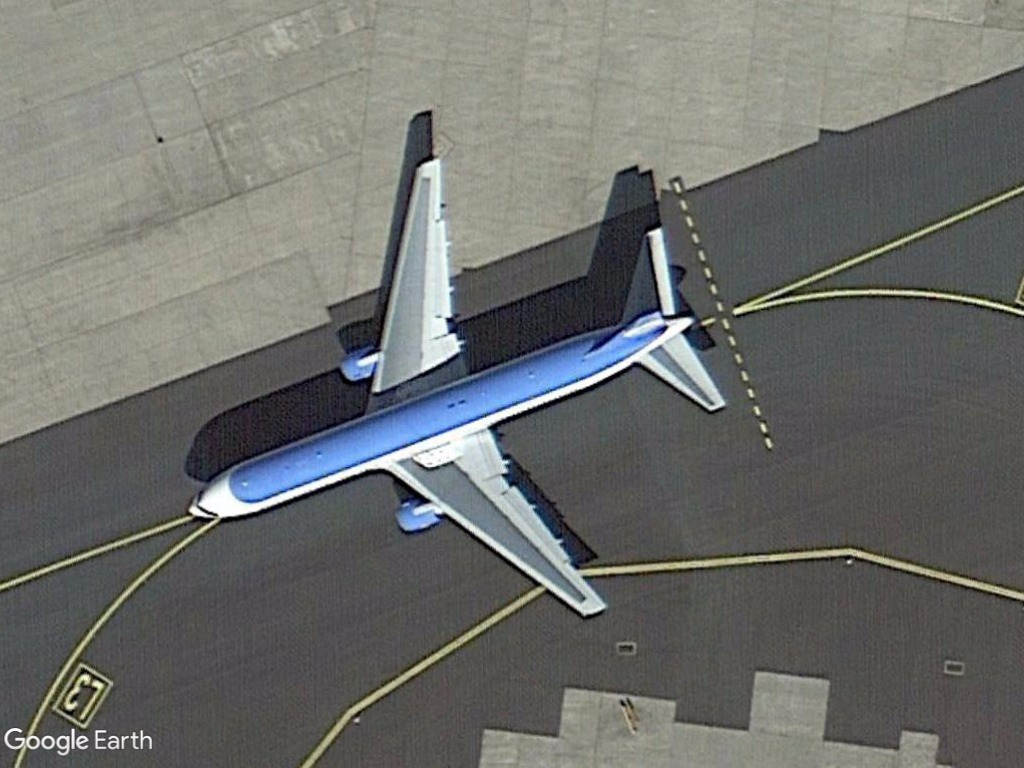airliner: (174, 140, 758, 640)
